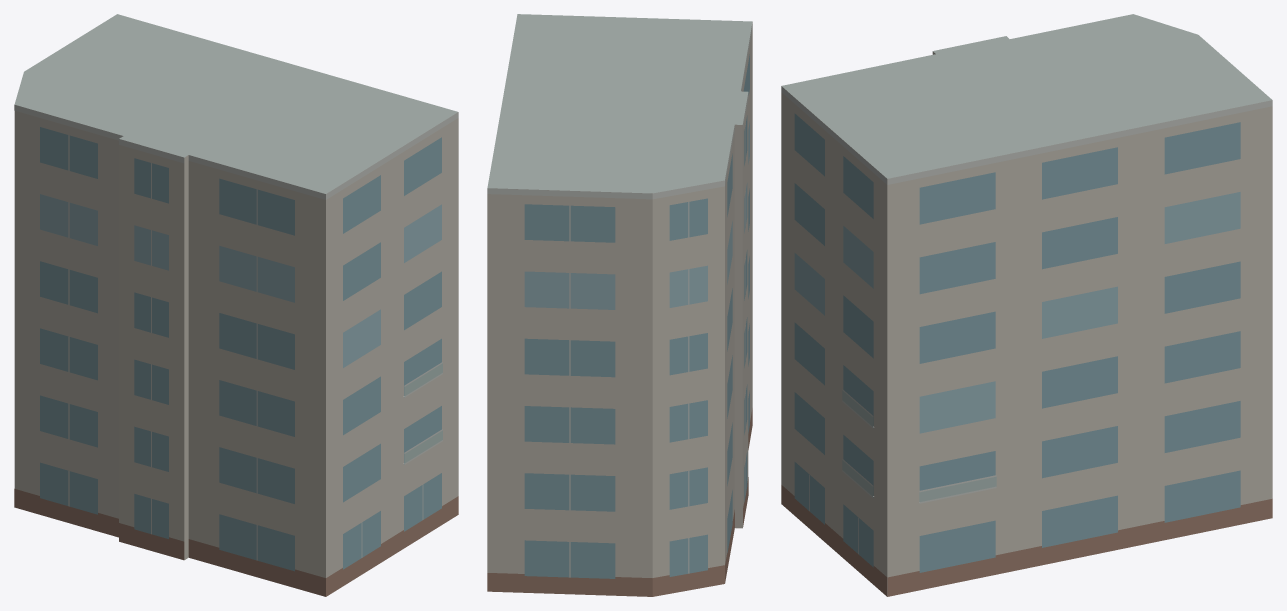
Rendered from survey-upis-32932869.glb.
3 views of the same model, side by side, from view 1: azimuth 30°, elevation 25°; view 2: azimuth 150°, elevation 25°; view 3: azimuth 270°, elevation 25° (orthographic). The views are drawn at different scales.
Parts seen in each view (by area): view 1: survey-upis-32932869.tmp; view 2: survey-upis-32932869.tmp; view 3: survey-upis-32932869.tmp.
Part boxes in pixels (bbox=[...]): survey-upis-32932869.tmp: bbox=[14, 14, 458, 596]; survey-upis-32932869.tmp: bbox=[487, 14, 752, 596]; survey-upis-32932869.tmp: bbox=[781, 14, 1272, 596].
Size of the model in its own units: 14.09 by 16.65 by 17.75.
